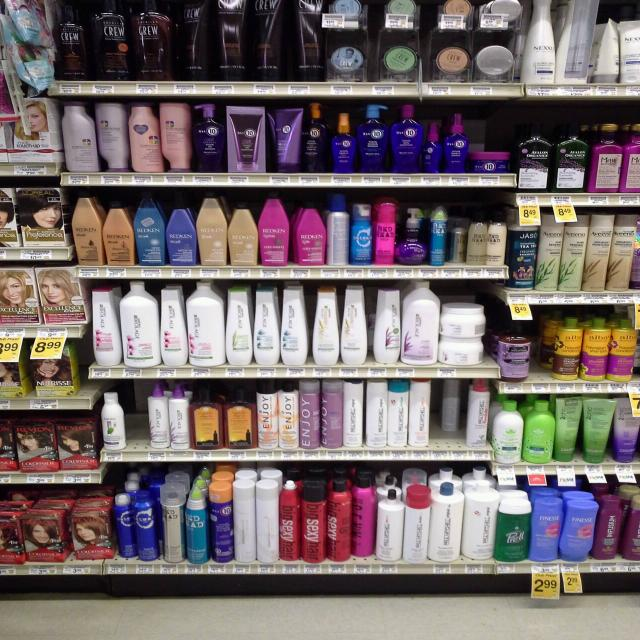empty: (119, 378, 155, 450), (531, 319, 558, 380)
